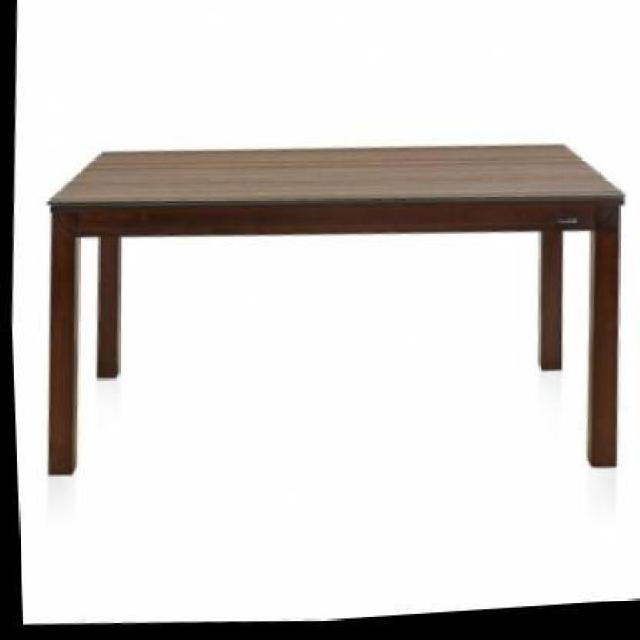tables: (45, 142, 626, 476)
